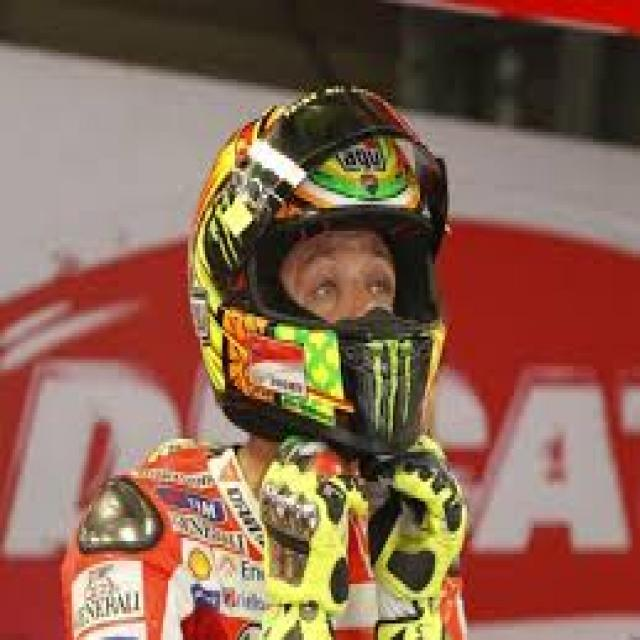with-helmet: (180, 80, 460, 478)
